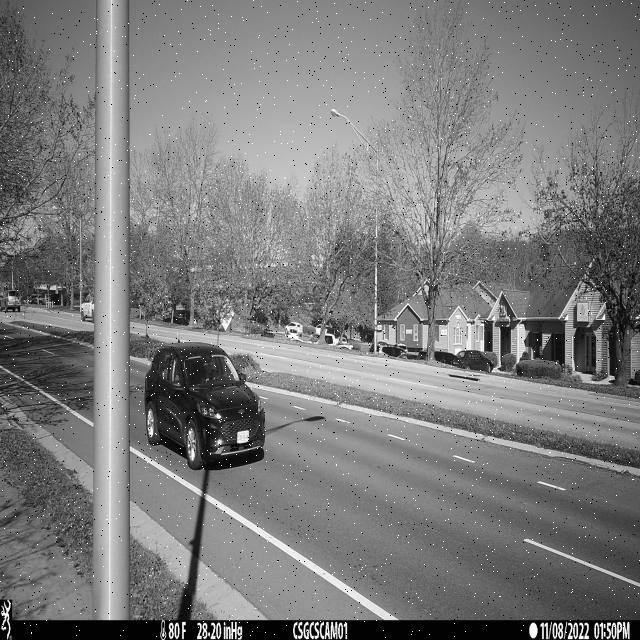SUV: (143, 340, 265, 471)
